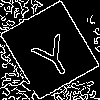Y: (25, 25, 79, 82)
